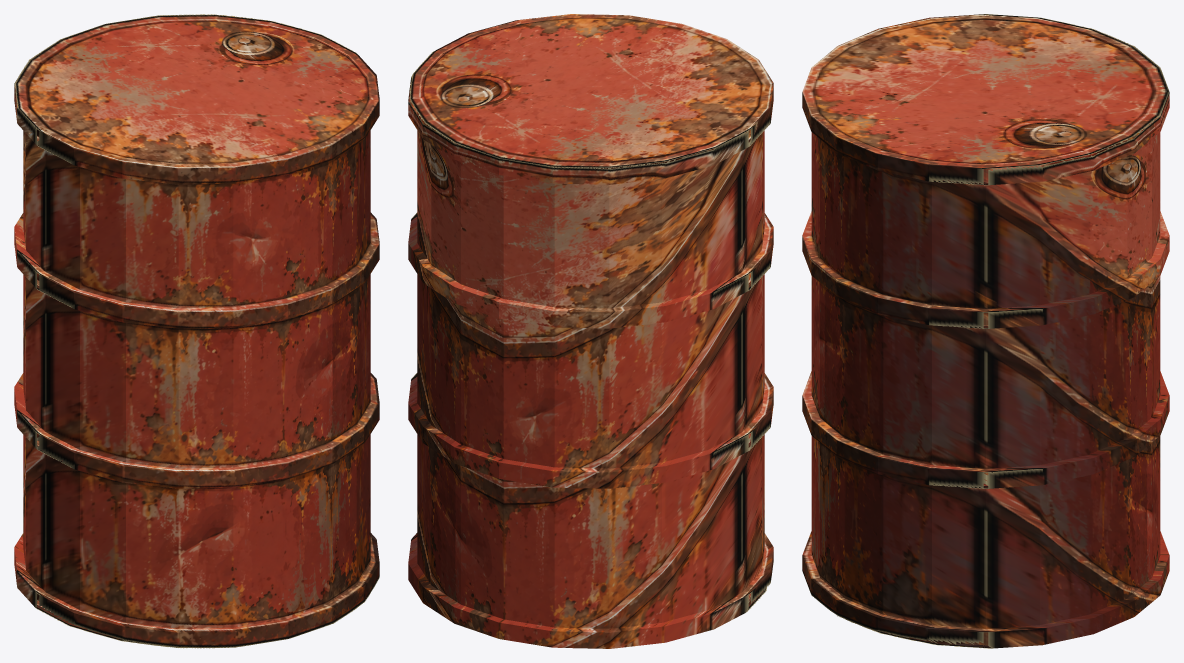
Rendered from barrel.glb.
3 renders of one model, left to right at view 1: azimuth 30°, elevation 25°; view 2: azimuth 150°, elevation 25°; view 3: azimuth 270°, elevation 25°, orthographic.
Visible parts, largest first — view 1: barrel_game; view 2: barrel_game; view 3: barrel_game.
Part boxes in pixels (<box>): barrel_game: <box>14,14,379,648</box>; barrel_game: <box>408,14,773,648</box>; barrel_game: <box>802,14,1169,648</box>.
Bounding box in the file's own units: 0.61 × 0.88 × 0.61.
Materials: 1 (1 with a texture image).
